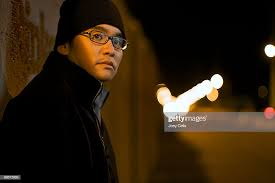asian_male: (66, 13, 130, 85)
